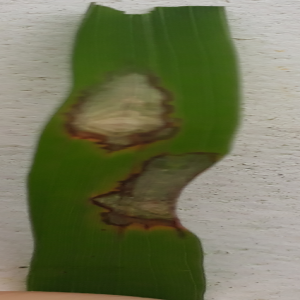Rice_Blast: (77, 146, 225, 252), (64, 59, 181, 159)
